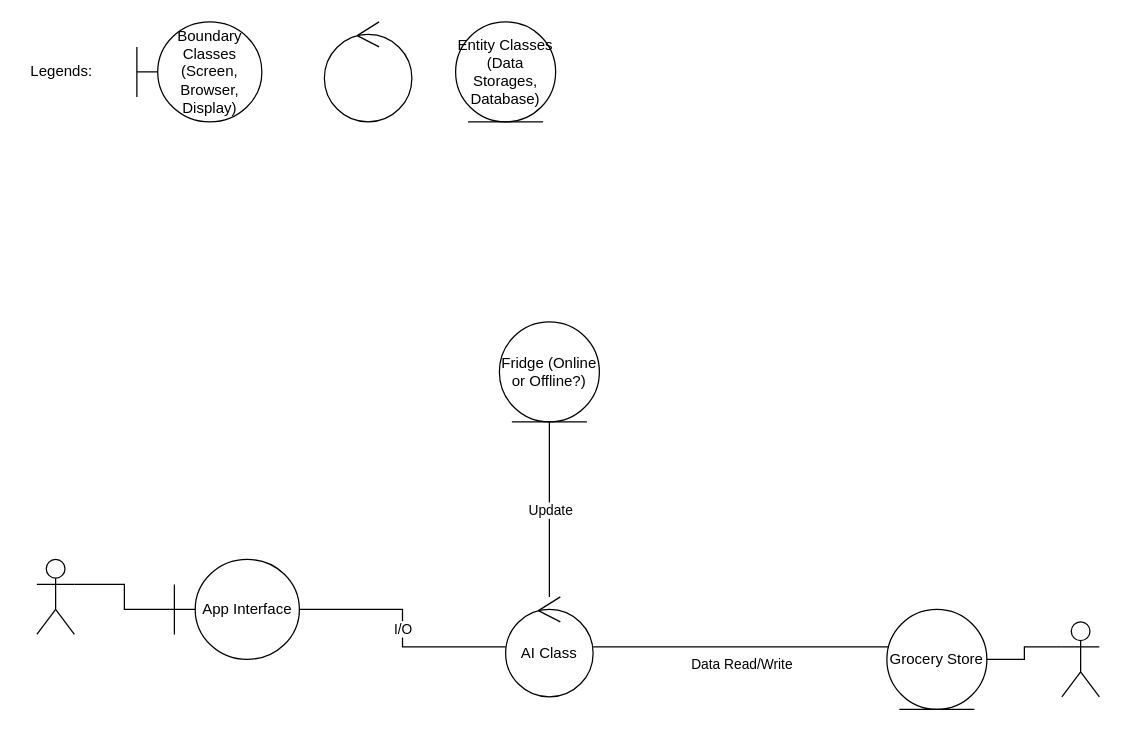
The diagram is 1121 pixels wide and 745 high, and some of its shapes have lost their labels. Each missing label, with the centre of its shape:
"Client" goes at (x=1080, y=659).
"Consumer" goes at (x=55, y=596).
"Controller Classes (Processes and Logic)" goes at (x=367, y=71).
